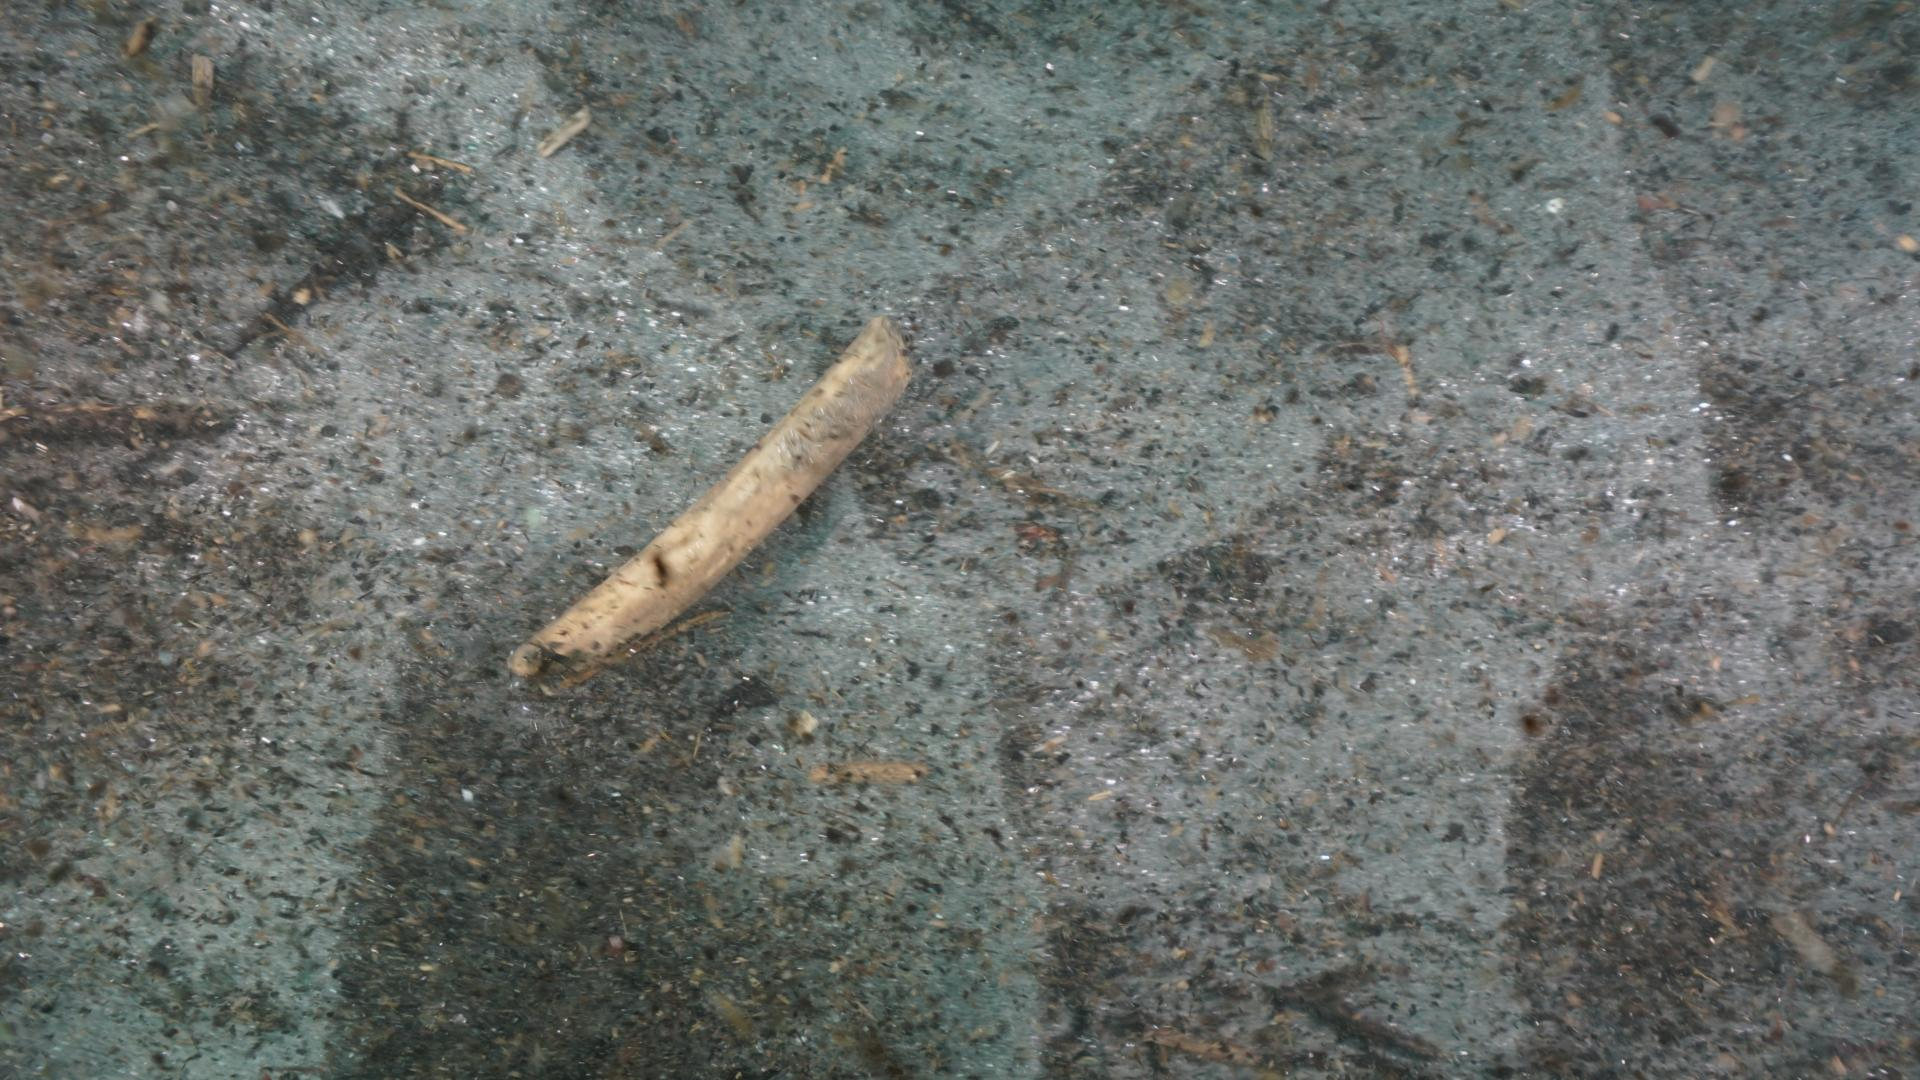wood: (504, 307, 909, 676)
